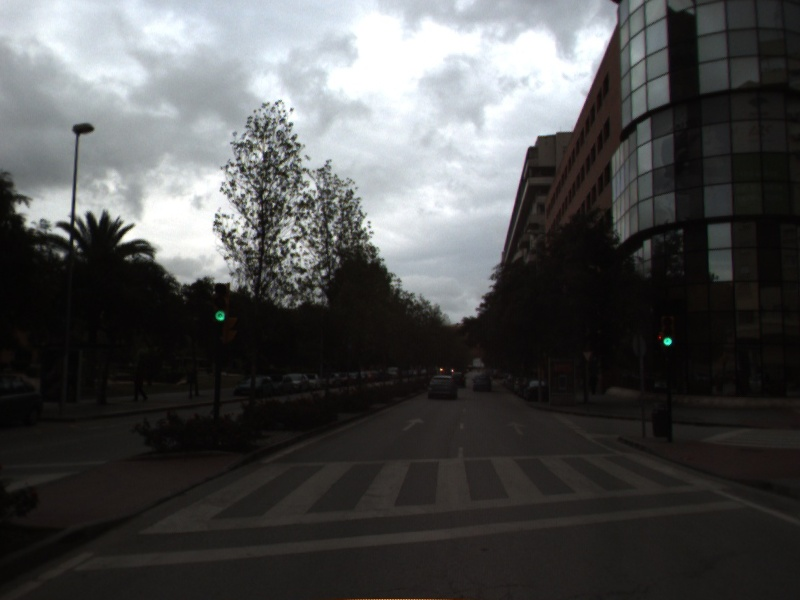STRAIGHT: (503, 419, 530, 437), (401, 416, 427, 432)
